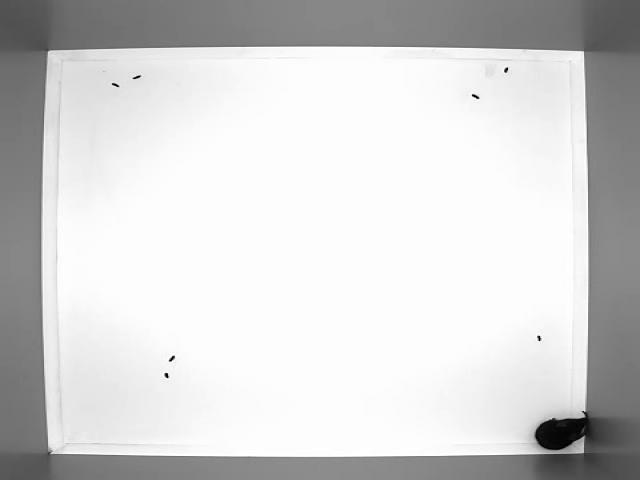Tikus: (536, 412, 594, 451)
